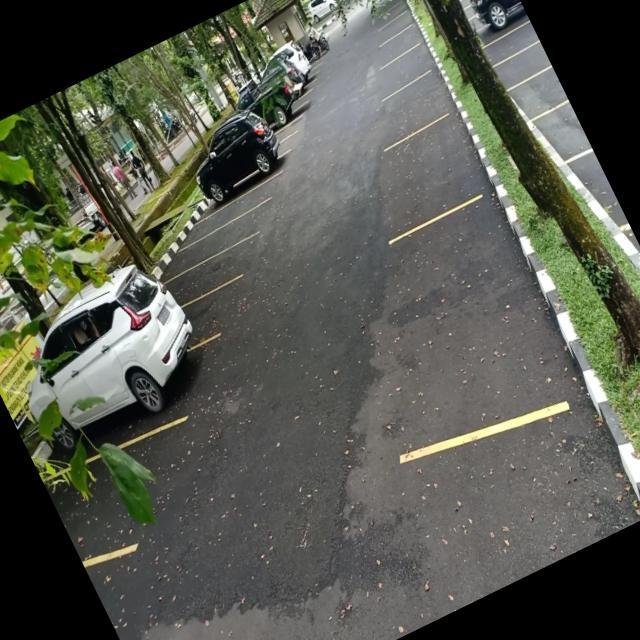empty: (331, 193, 587, 469), (369, 111, 494, 232), (166, 236, 266, 308), (170, 210, 262, 272), (378, 68, 458, 139), (188, 189, 268, 240), (536, 98, 593, 165), (510, 65, 570, 122), (377, 42, 436, 90), (496, 41, 552, 89), (482, 20, 540, 66)
occupied: (15, 302, 230, 478), (188, 126, 296, 214), (464, 0, 532, 46)
